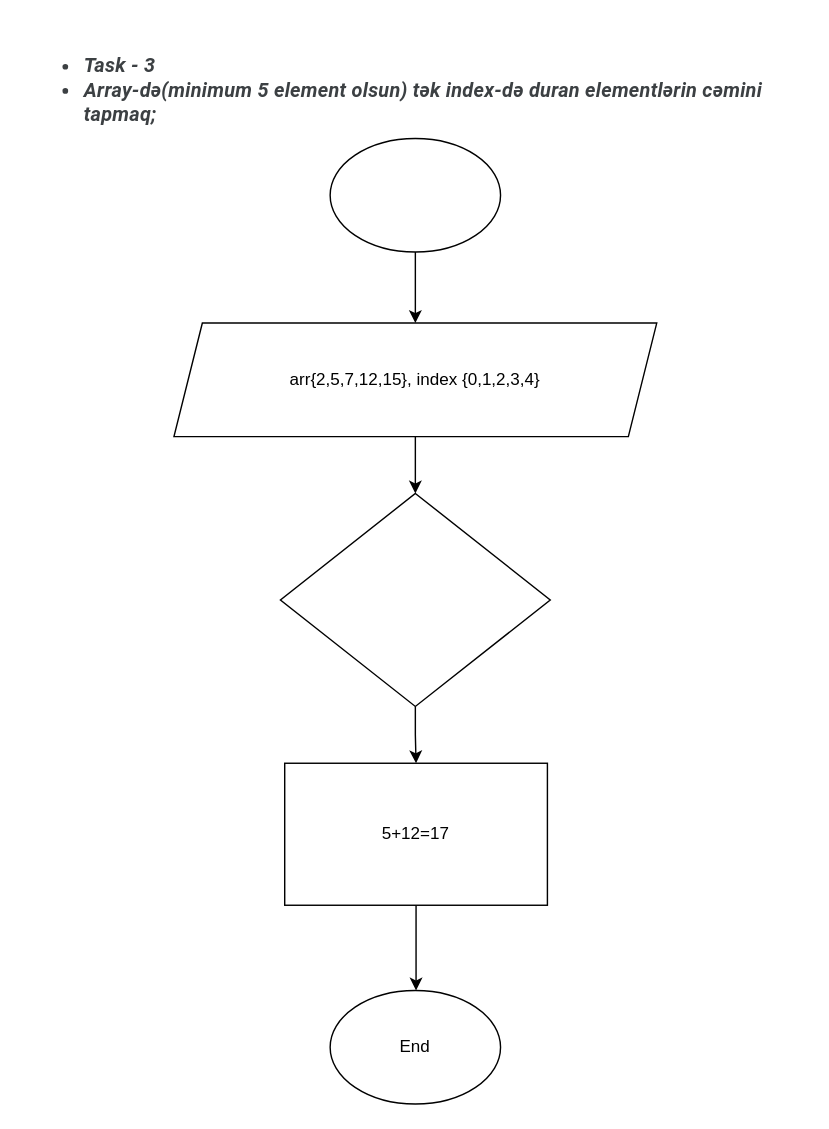
This 829x1129 diagram has some shape labels left out. Each missing label, with the centre of its shape:
"index {1+3}" goes at (414,599).
"Start" goes at (415,194).
